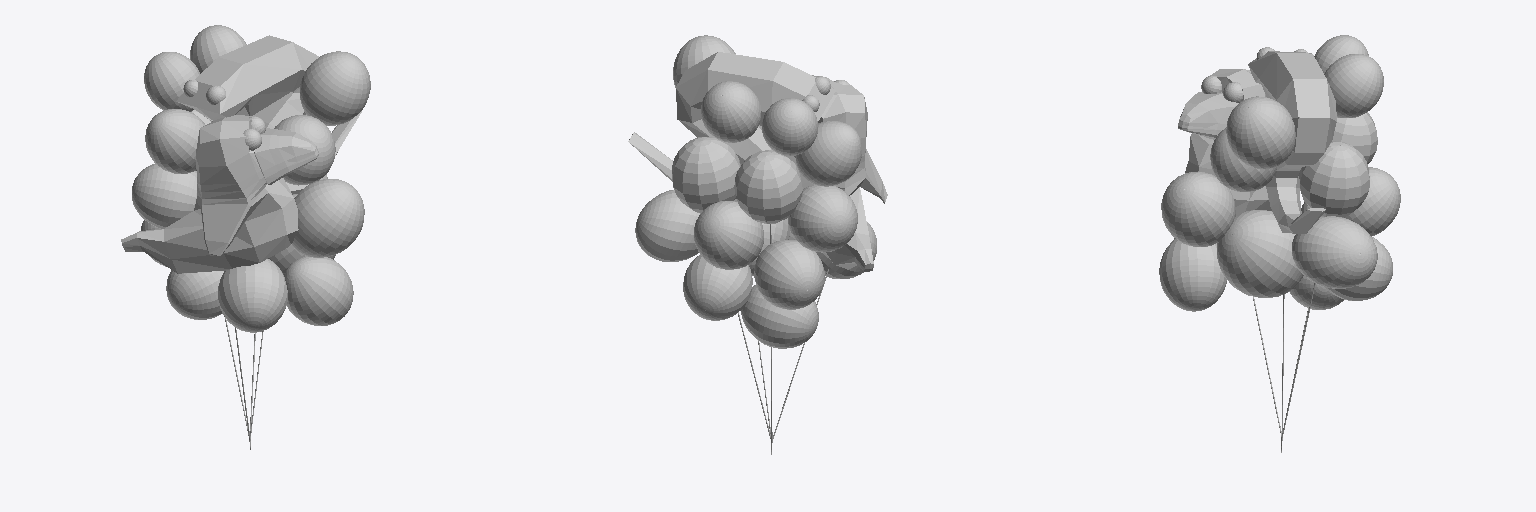
File: ObjBalloons.obj
3 renders of one model, left to right at view 1: azimuth 30°, elevation 25°; view 2: azimuth 150°, elevation 25°; view 3: azimuth 270°, elevation 25°, orthographic.
Visible parts, largest first — view 1: Ballons globos2:GLOBOS:polySurface2, Ballons pSphere11, Ballons pSphere20, Ballons pSphere14, Ballons pSphere18, Ballons pSphere13, Ballons pSphere21, Ballons pSphere19, Ballons pSphere22, pSphere10 Ballons, Ballons pSphere23; view 2: Ballons globos2:GLOBOS:polySurface2, Ballons pSphere16, Ballons pSphere8, Ballons pSphere13, Ballons pSphere15, Ballons pSphere17, Ballons pSphere21, Ballons pSphere23, Ballons pSphere19, Ballons pSphere22, Ballons pSphere20, Ballons pSphere14 (+1 smaller); view 3: Ballons globos2:GLOBOS:polySurface2, Ballons pSphere12, Ballons pSphere15, Ballons pSphere11, Ballons pSphere20, Ballons pSphere18, Ballons pSphere23, Ballons pSphere8, pSphere10 Ballons, Ballons pSphere17, Ballons pSphere22, Ballons pSphere19.
Boxes of the visible parts, <box> form: Ballons globos2:GLOBOS:polySurface2: <box>121,35,361,449</box>; Ballons pSphere11: <box>292,179,364,257</box>; Ballons pSphere20: <box>300,51,370,125</box>; Ballons pSphere14: <box>218,259,287,332</box>; Ballons pSphere18: <box>284,256,353,325</box>; Ballons pSphere13: <box>132,163,196,228</box>; Ballons pSphere21: <box>145,109,204,173</box>; Ballons pSphere19: <box>166,270,223,319</box>; Ballons pSphere22: <box>144,52,199,111</box>; pSphere10 Ballons: <box>274,115,335,185</box>; Ballons pSphere23: <box>190,25,246,73</box>; Ballons globos2:GLOBOS:polySurface2: <box>628,52,887,454</box>; Ballons pSphere16: <box>754,240,824,309</box>; Ballons pSphere8: <box>694,201,763,269</box>; Ballons pSphere13: <box>788,185,857,252</box>; Ballons pSphere15: <box>635,190,699,261</box>; Ballons pSphere17: <box>683,255,752,320</box>; Ballons pSphere21: <box>796,121,861,186</box>; Ballons pSphere23: <box>701,81,760,142</box>; Ballons pSphere19: <box>741,285,818,348</box>; Ballons pSphere22: <box>762,98,817,155</box>; Ballons pSphere20: <box>673,35,735,87</box>; Ballons pSphere14: <box>816,222,876,278</box>; Ballons globos2:GLOBOS:polySurface2: <box>1178,47,1377,452</box>; Ballons pSphere12: <box>1217,210,1303,297</box>; Ballons pSphere15: <box>1292,216,1377,288</box>; Ballons pSphere11: <box>1161,172,1235,246</box>; Ballons pSphere20: <box>1226,96,1295,168</box>; Ballons pSphere18: <box>1159,238,1226,311</box>; Ballons pSphere23: <box>1324,54,1383,117</box>; Ballons pSphere8: <box>1344,167,1400,236</box>; pSphere10 Ballons: <box>1210,127,1276,191</box>; Ballons pSphere17: <box>1325,237,1392,300</box>; Ballons pSphere22: <box>1314,35,1368,73</box>; Ballons pSphere19: <box>1289,276,1343,309</box>.
Bounding box in the file's own units: 11.52 × 18.33 × 10.03.